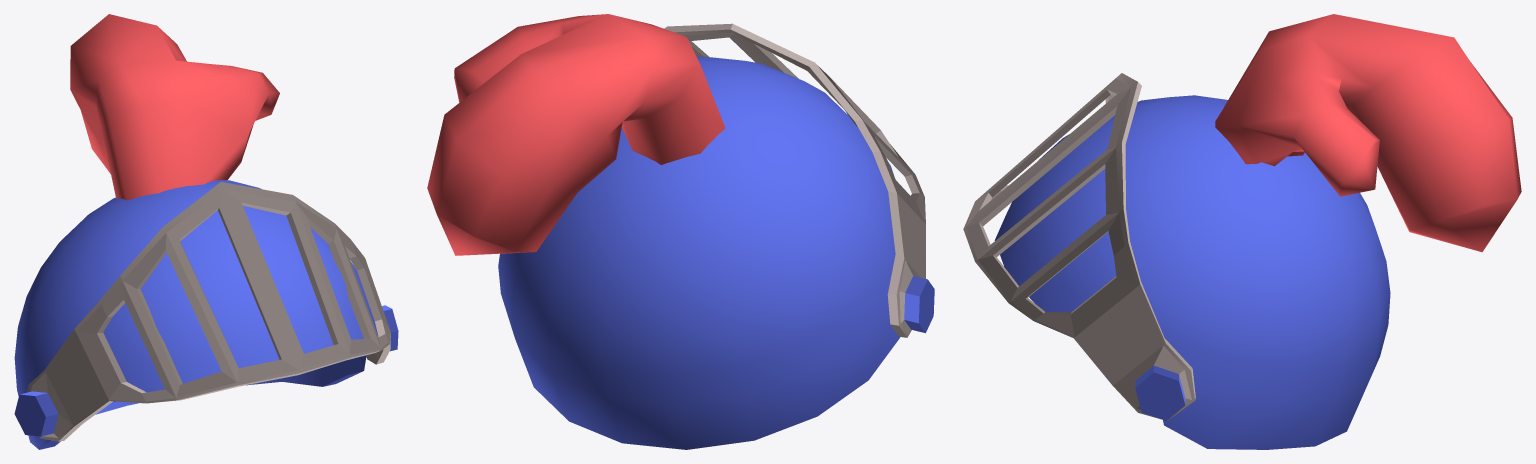
The model's file is Hat_34_02.fbx.
3 renders of one model, left to right at view 1: azimuth 30°, elevation 25°; view 2: azimuth 150°, elevation 25°; view 3: azimuth 270°, elevation 25°, orthographic. The views are drawn at different scales.
Visible parts, largest first — view 1: Hat_34_02; view 2: Hat_34_02; view 3: Hat_34_02.
Part boxes in pixels (x1,y1,x2,y2): Hat_34_02: [14, 14, 398, 449]; Hat_34_02: [427, 14, 934, 449]; Hat_34_02: [963, 14, 1521, 449].
Bounding box in the file's own units: 48.7 × 44.34 × 57.61.
